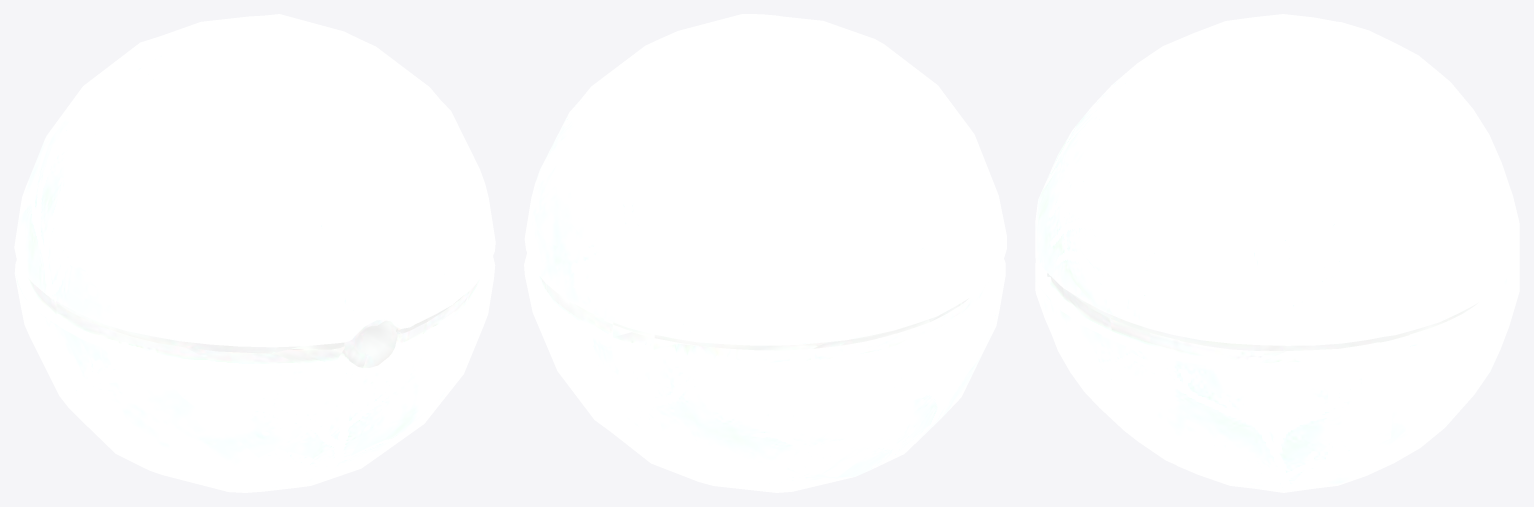
The model's file is esfera-esmeralda.glb.
The picture shows the model from 3 angles, left to right: view 1: azimuth 30°, elevation 25°; view 2: azimuth 150°, elevation 25°; view 3: azimuth 270°, elevation 25°; orthographic projection.
Visible parts, largest first — view 1: mesh_node; view 2: mesh_node; view 3: mesh_node.
Part boxes in pixels (left/top/right/bottom): mesh_node: left=14, top=14, right=495, bottom=492; mesh_node: left=524, top=14, right=1006, bottom=492; mesh_node: left=1035, top=14, right=1519, bottom=492.
Bounding box in the file's own units: 0.9941 × 0.9941 × 1.
1 material, 1 textured.
